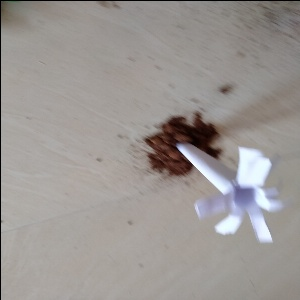weed: (170, 126, 281, 242)
